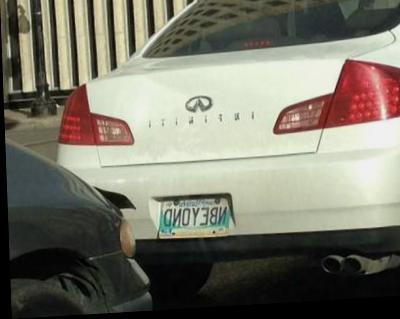License_Plate: (157, 197, 234, 236)
